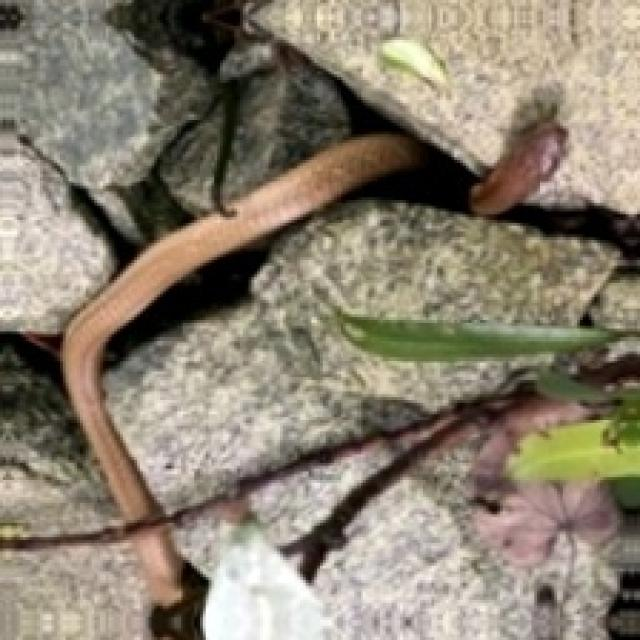king cobra: (61, 134, 421, 519), (463, 111, 569, 220)
